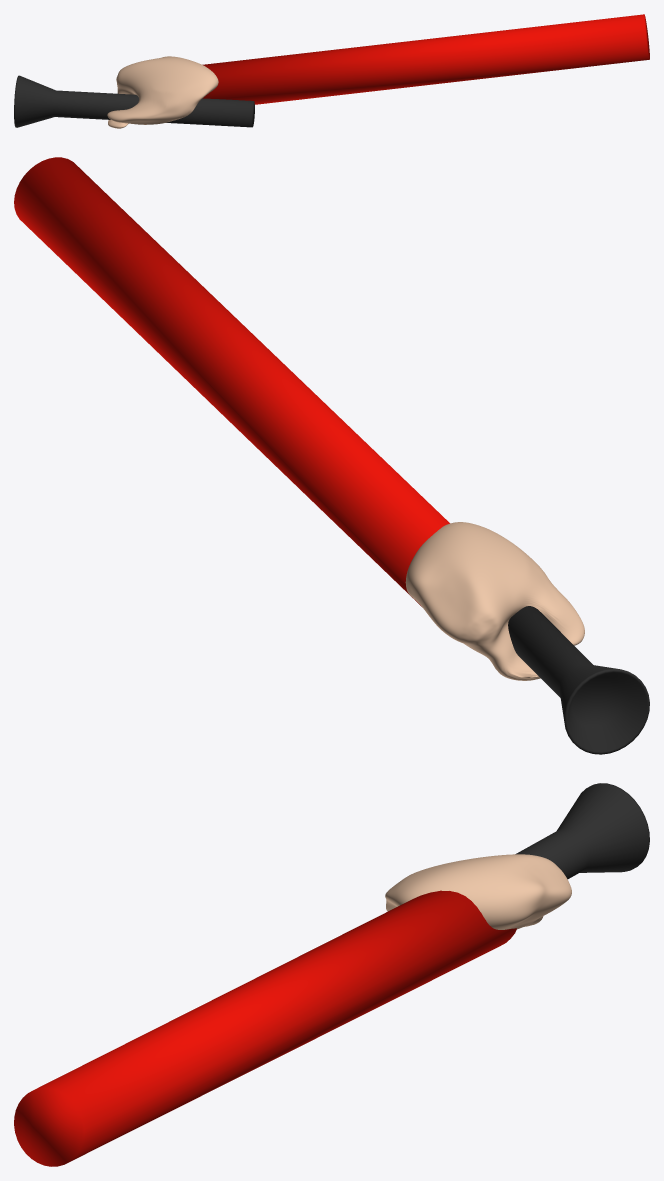
Rendered from hand_w_flashlight.glb.
The picture shows the model from 3 angles, top to bottom: view 1: azimuth 30°, elevation 25°; view 2: azimuth 150°, elevation 25°; view 3: azimuth 270°, elevation 25°; orthographic projection. The views are drawn at different scales.
Parts seen in each view (by area): view 1: Object_2, Object_3, Object_5; view 2: Object_2, Object_5, Object_3; view 3: Object_2, Object_5, Object_3.
Part boxes in pixels (x1,y1,x2,y2): Object_2: (202, 14, 649, 104); Object_3: (14, 75, 254, 127); Object_5: (107, 56, 218, 128); Object_2: (14, 157, 449, 606); Object_5: (405, 522, 584, 680); Object_3: (508, 606, 649, 754); Object_2: (14, 890, 516, 1166); Object_5: (385, 854, 571, 929); Object_3: (515, 783, 649, 879).
Size of the model in its own units: 43.22 by 8.98 by 26.65.
